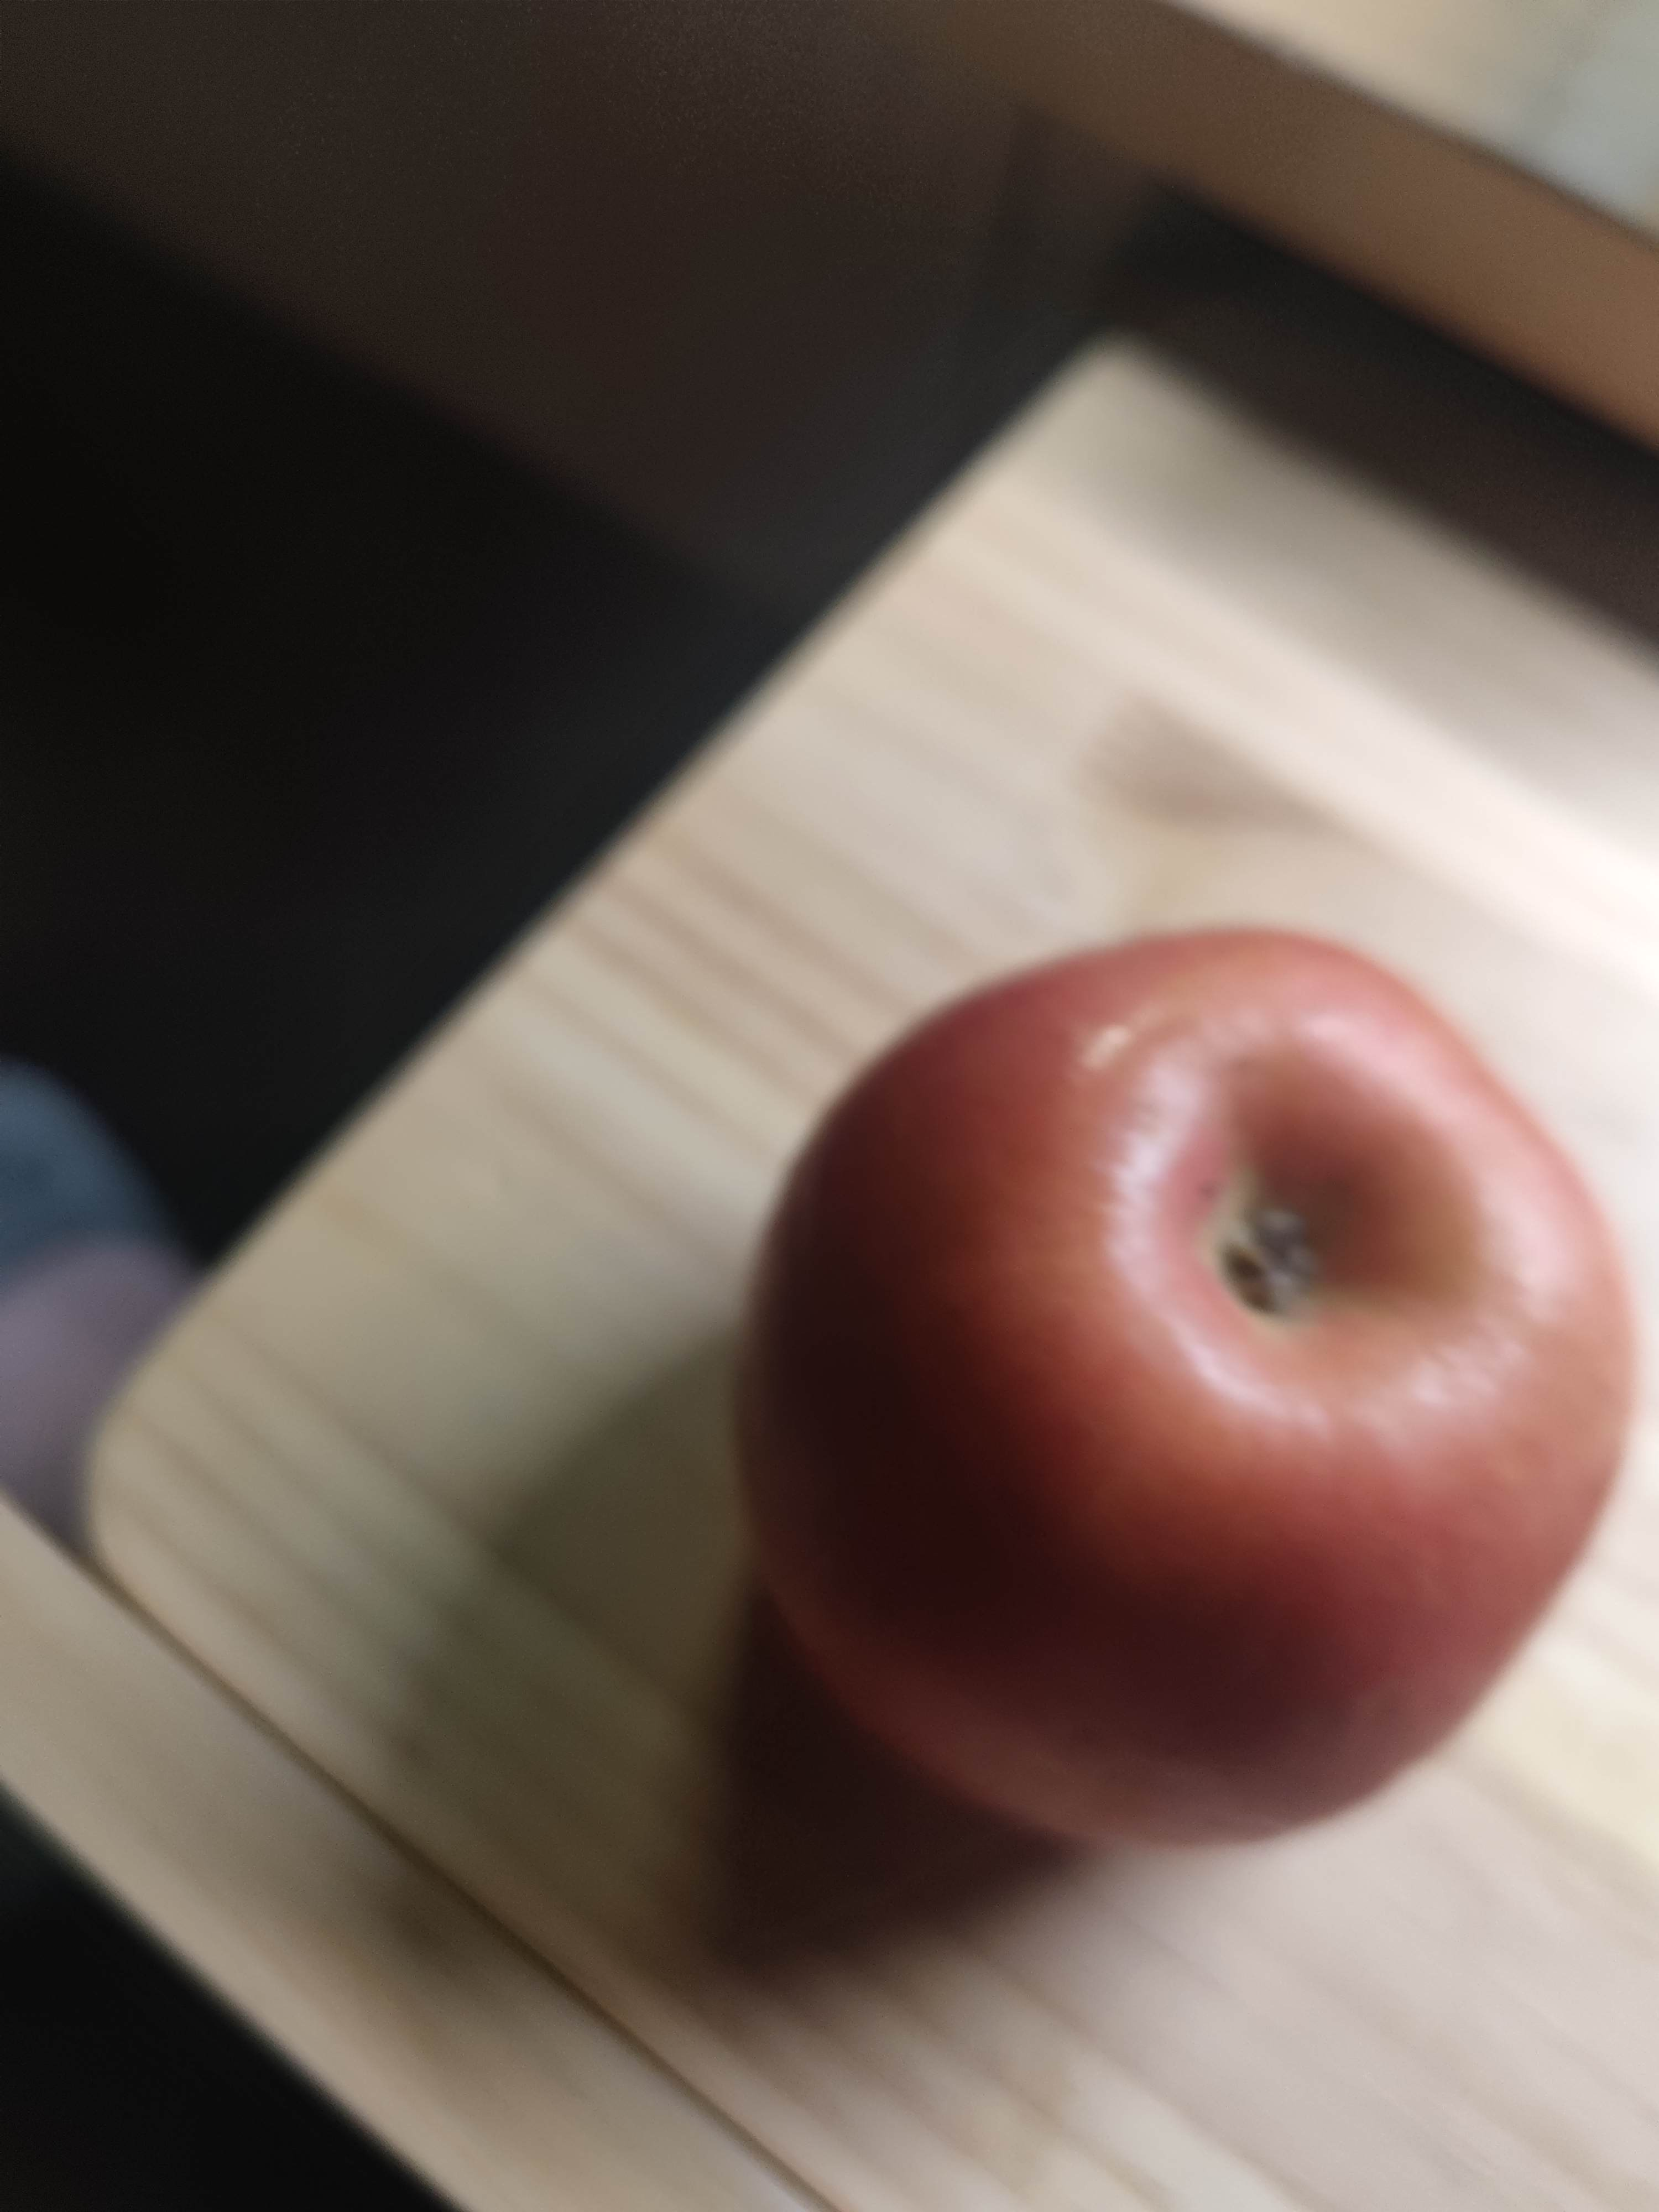apple: (748, 927, 1650, 1872)
